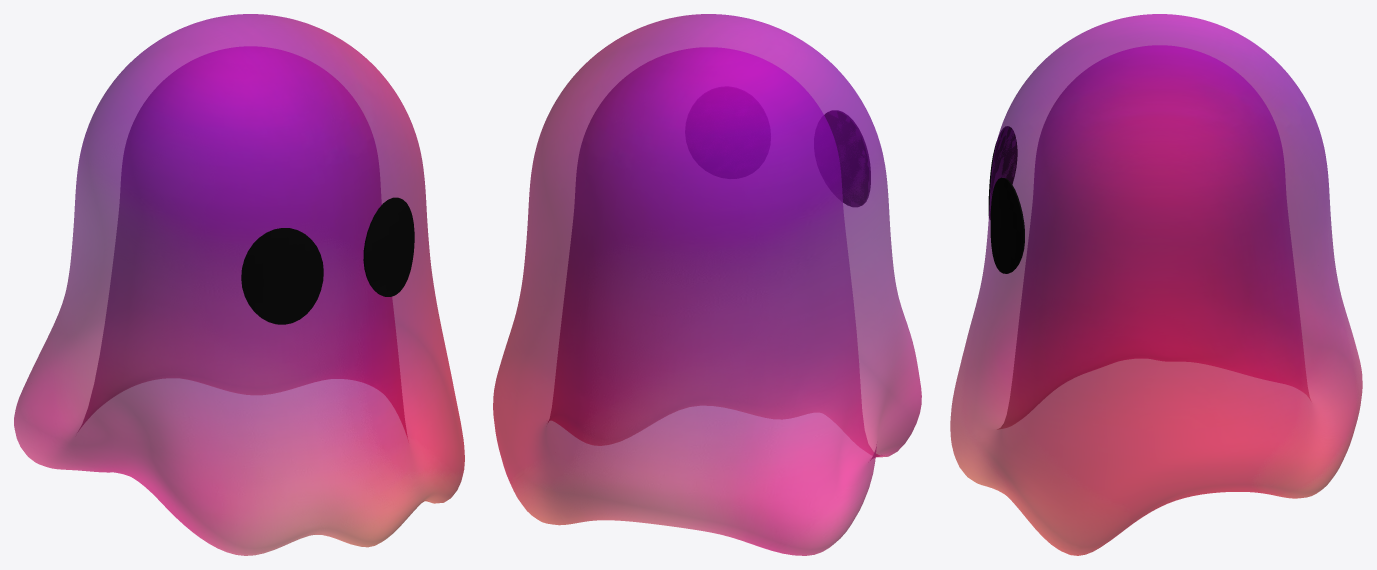
Rendered from GHOST-FINAL.glb.
3 views of the same model, side by side, from view 1: azimuth 30°, elevation 25°; view 2: azimuth 150°, elevation 25°; view 3: azimuth 270°, elevation 25° (orthographic). The views are drawn at different scales.
Visible parts, largest first — view 1: Sphere.003; view 2: Sphere.003; view 3: Sphere.003.
Part boxes in pixels (x1=…): Sphere.003: x1=14, y1=14, x2=464, y2=555; Sphere.003: x1=493, y1=14, x2=921, y2=555; Sphere.003: x1=950, y1=14, x2=1362, y2=555.
Size of the model in its own units: 1.67 by 2.06 by 1.68.
Materials: 2 (1 with a texture image).
